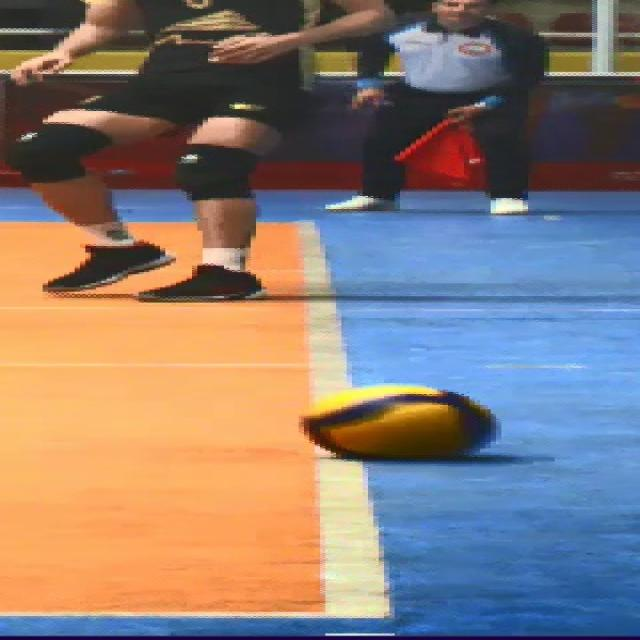Volleyball: (303, 382, 499, 458)
